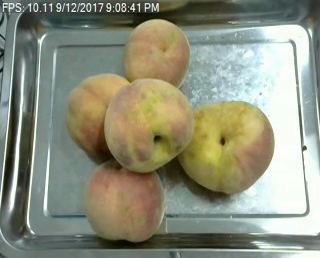Peach: (181, 99, 273, 195), (104, 78, 193, 172), (84, 163, 166, 243), (123, 18, 191, 88), (68, 72, 122, 154)
